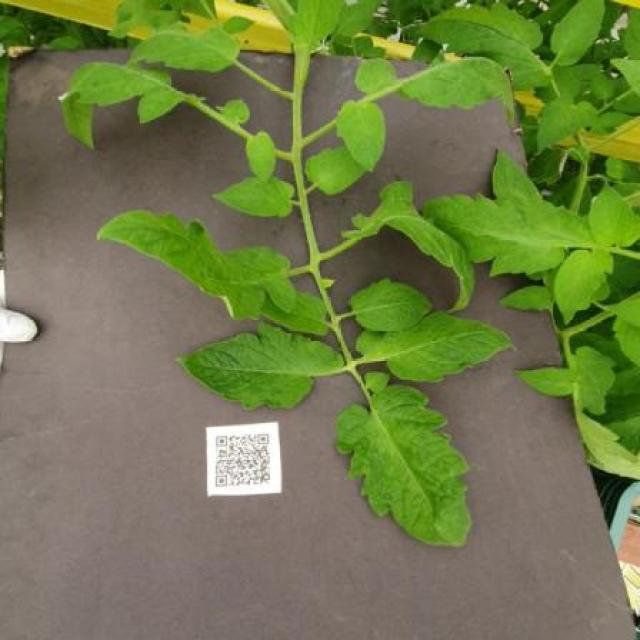Healthy: (94, 208, 295, 323), (334, 382, 474, 547), (173, 320, 344, 410), (420, 190, 591, 280), (417, 2, 553, 92), (358, 309, 518, 384), (58, 62, 189, 152), (354, 56, 516, 123), (130, 26, 240, 74), (346, 276, 435, 335), (554, 250, 616, 326), (549, 0, 607, 70), (212, 172, 298, 219), (334, 99, 386, 174), (587, 176, 640, 247)
